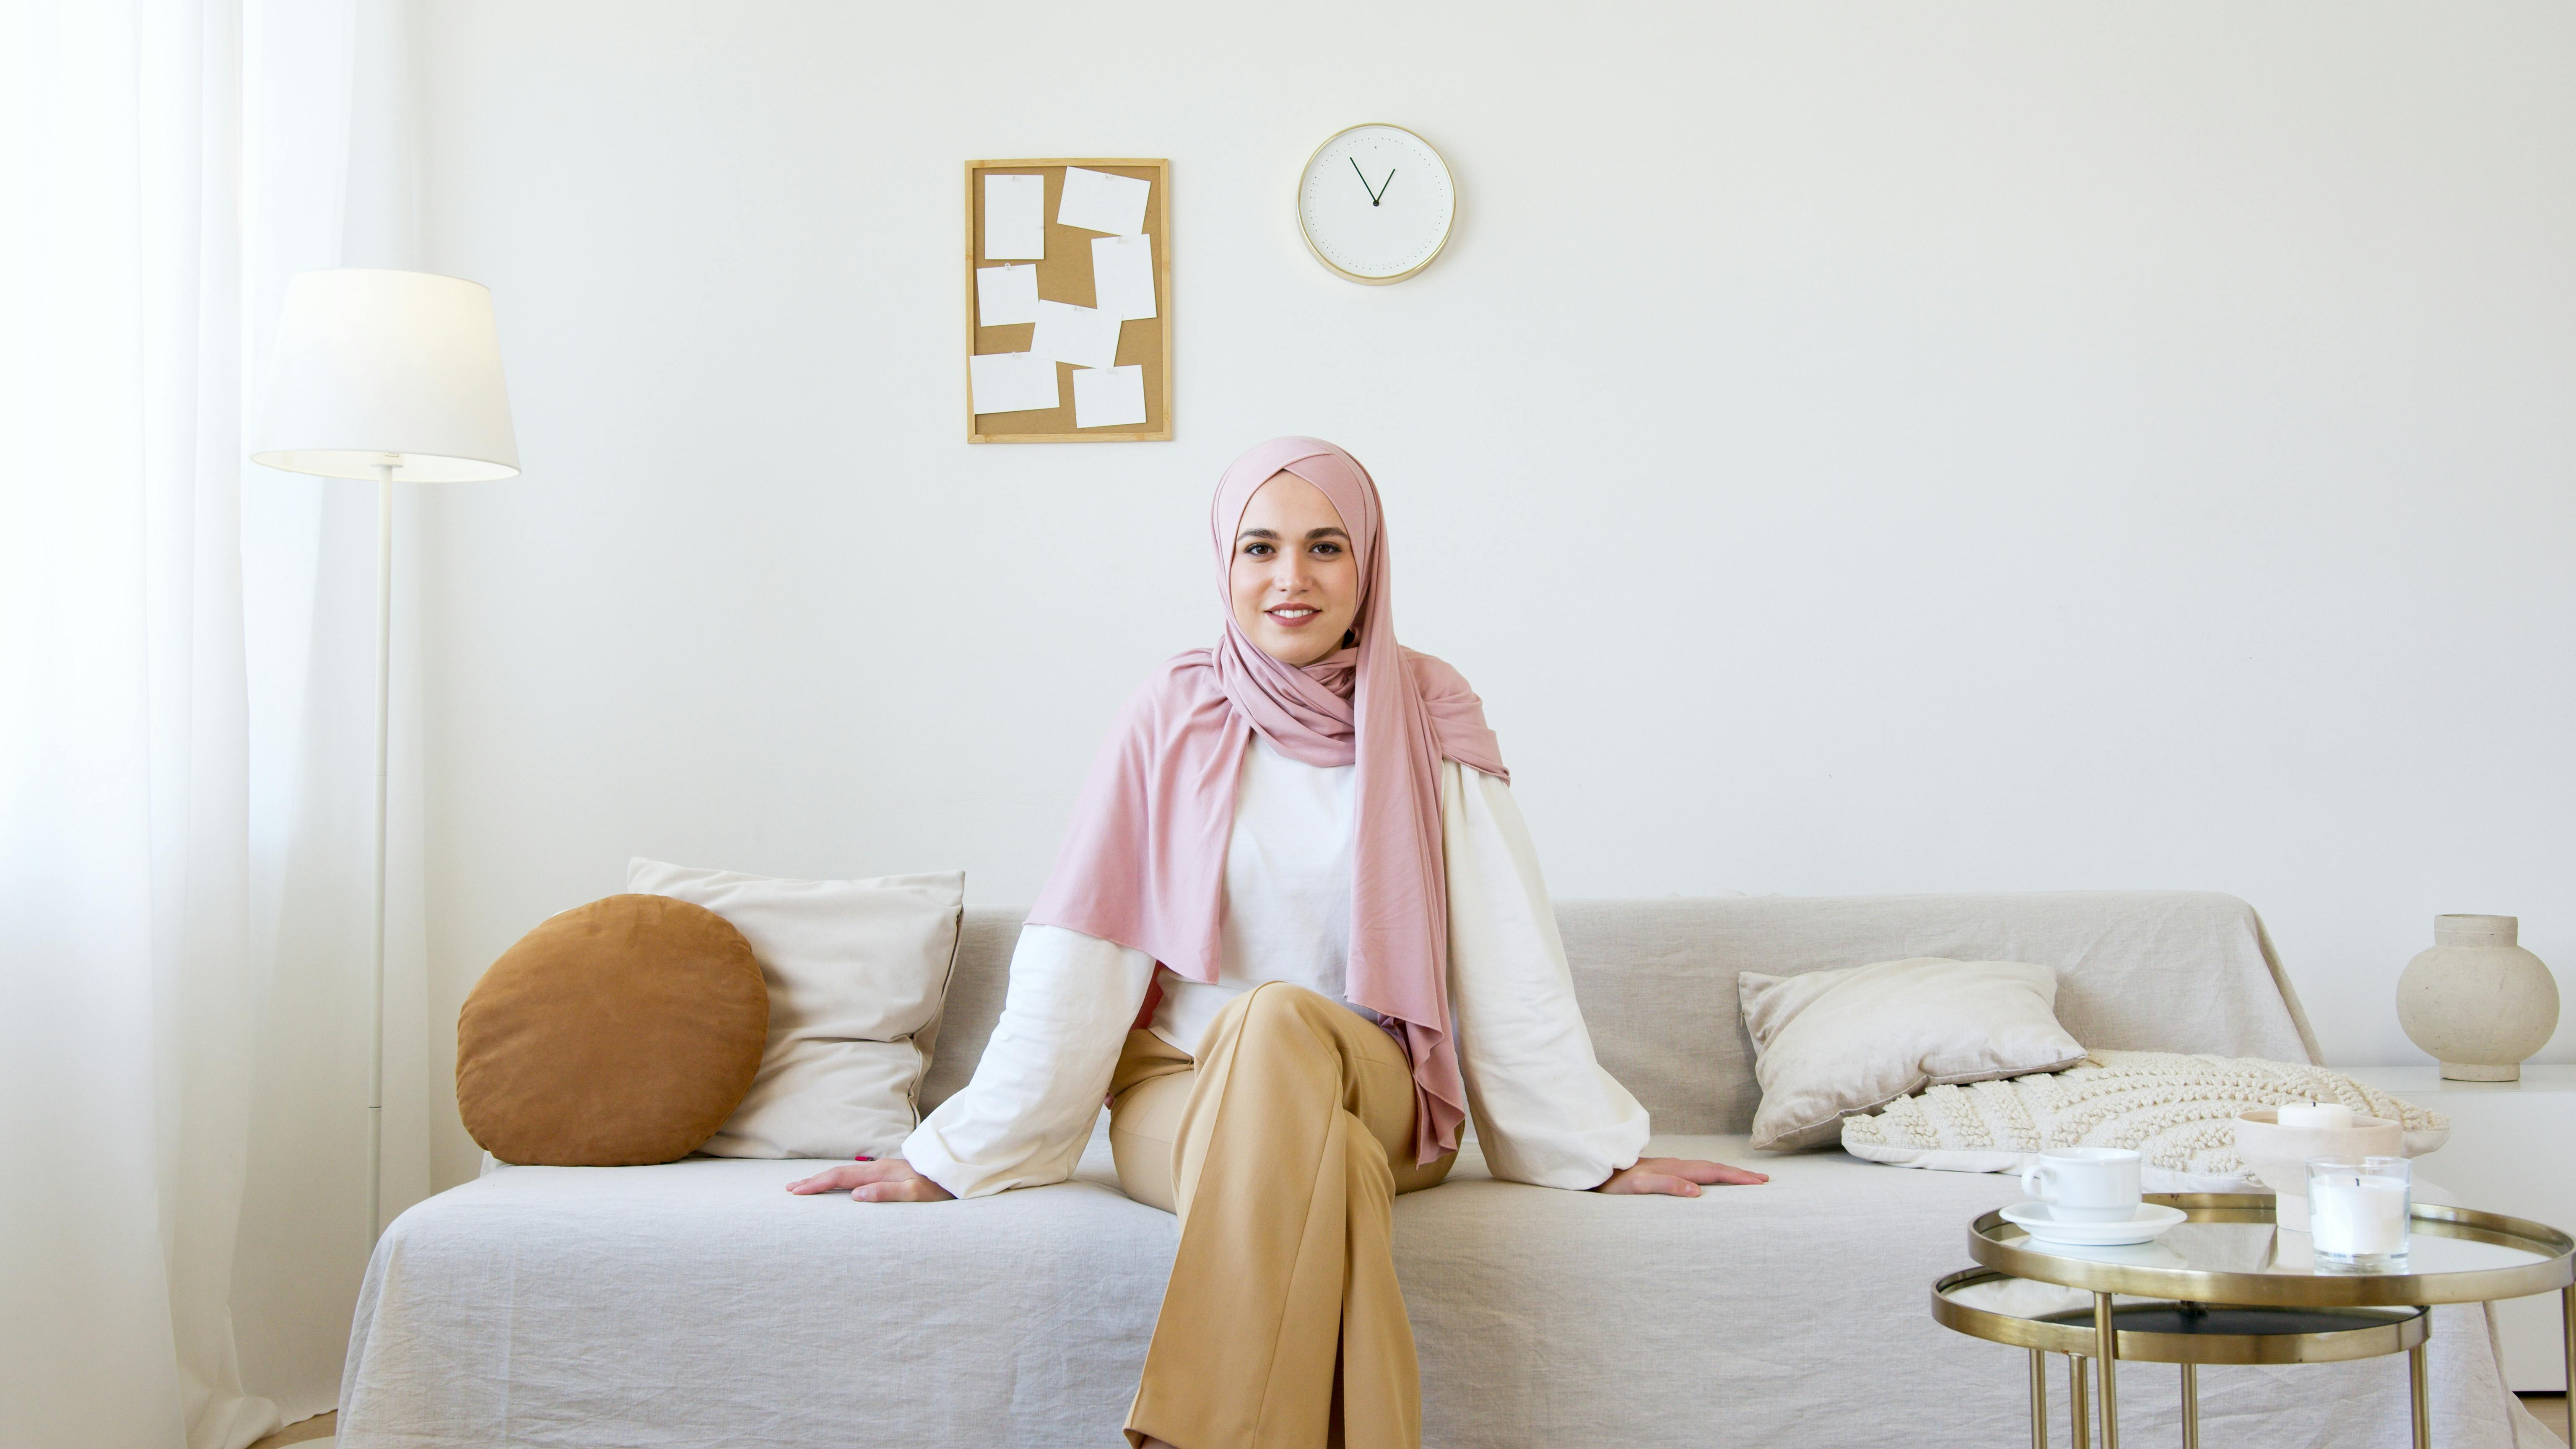clock: (1242, 101, 1559, 313)
